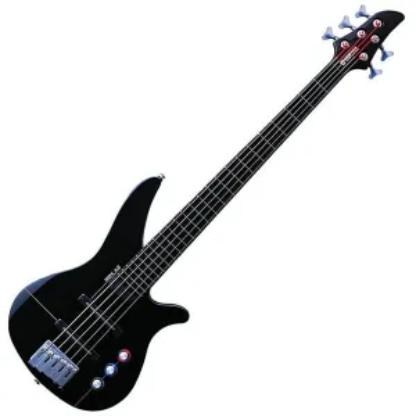bass: (8, 4, 406, 410)
